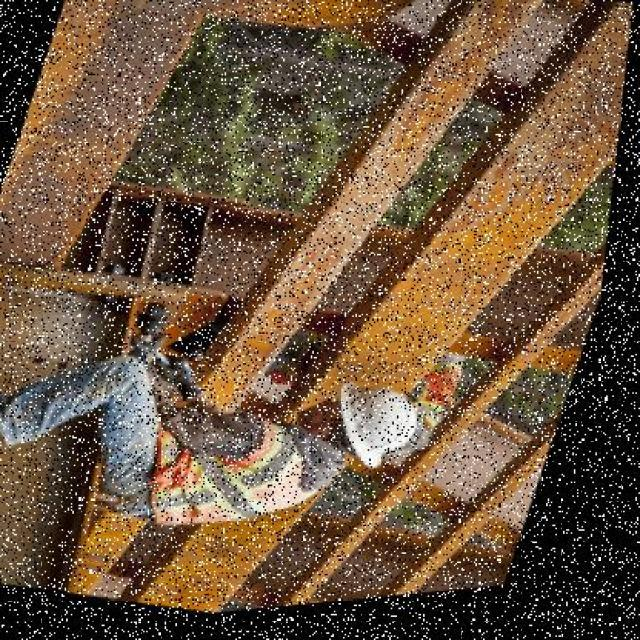helmet: (314, 377, 438, 491)
vest: (128, 400, 359, 558)
